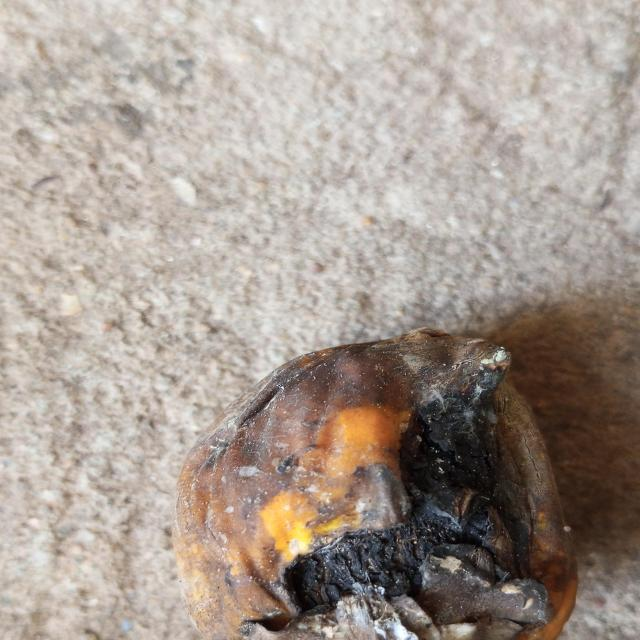damaged: (174, 331, 577, 640)
